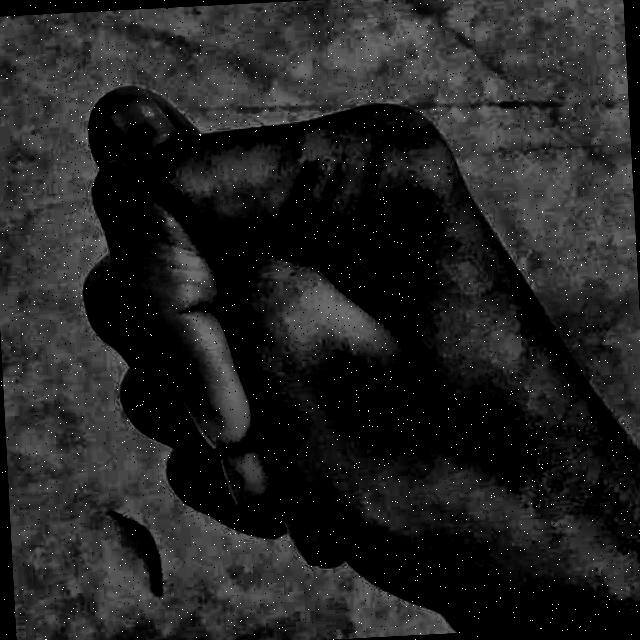Ta: (37, 29, 608, 640)
